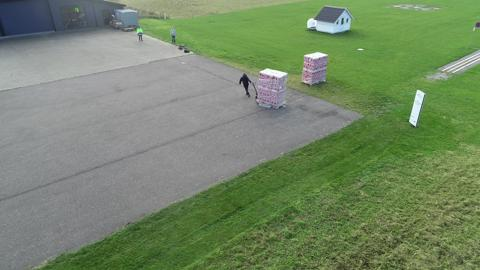RockwoolPallet: (256, 67, 285, 108)
